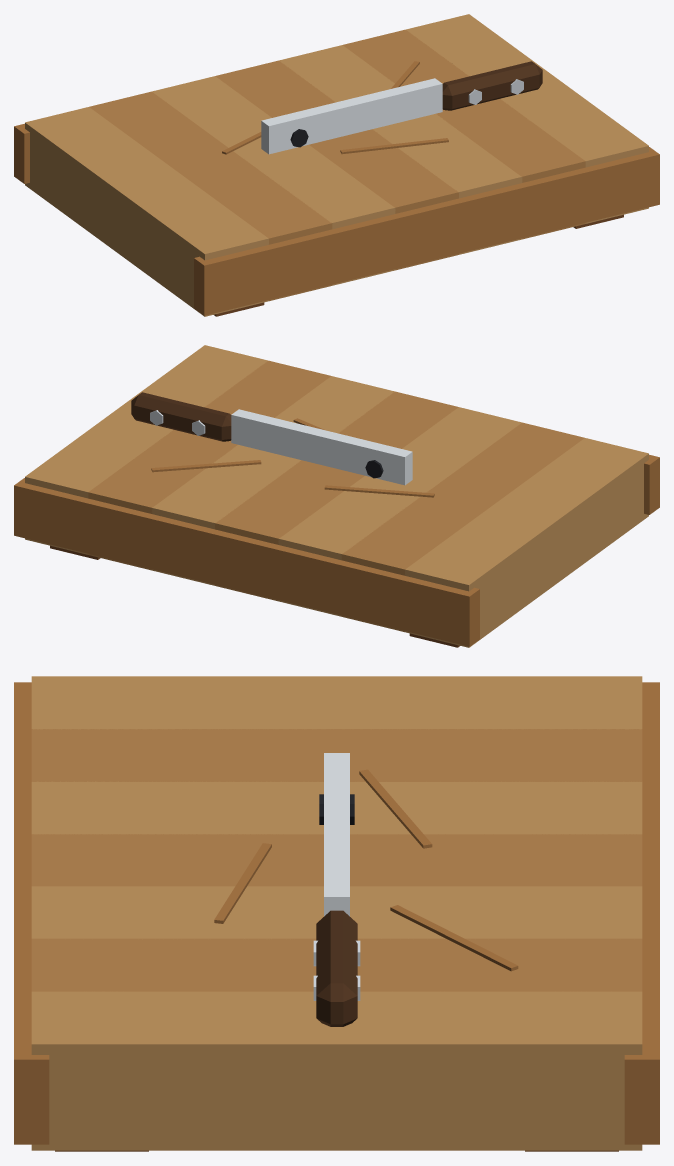
File: board.glb
3 renders of one model, top to bottom at view 1: azimuth 30°, elevation 25°; view 2: azimuth 150°, elevation 25°; view 3: azimuth 270°, elevation 25°, orthographic. The views are drawn at different scales.
Visible parts, largest first — view 1: block, cleaver; view 2: block, cleaver; view 3: block, cleaver.
Part boxes in pixels (box(x1,y1,x2,y2)): block: box(14, 14, 659, 316); cleaver: box(261, 61, 542, 154); block: box(14, 345, 659, 647); cleaver: box(131, 392, 412, 485); block: box(14, 676, 659, 1151); cleaver: box(313, 753, 360, 1026).
Size of the model in its own units: 0.76 by 0.16 by 0.55.
